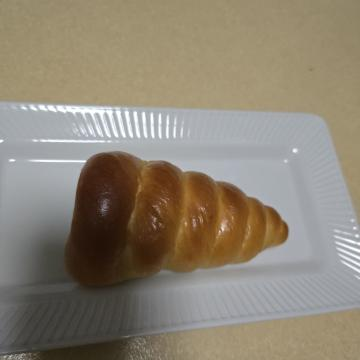cream horn: (140, 59, 316, 313)
